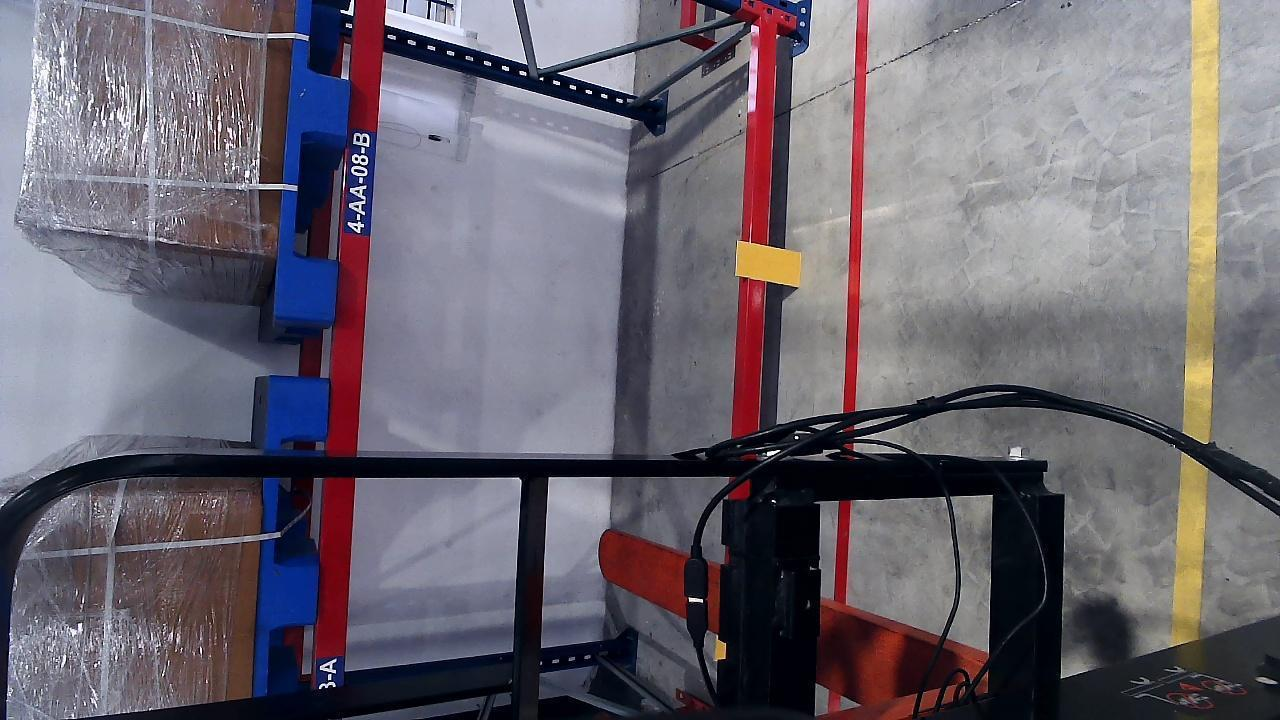red_line: (842, 4, 869, 413)
yellow_line: (1168, 6, 1222, 648)
